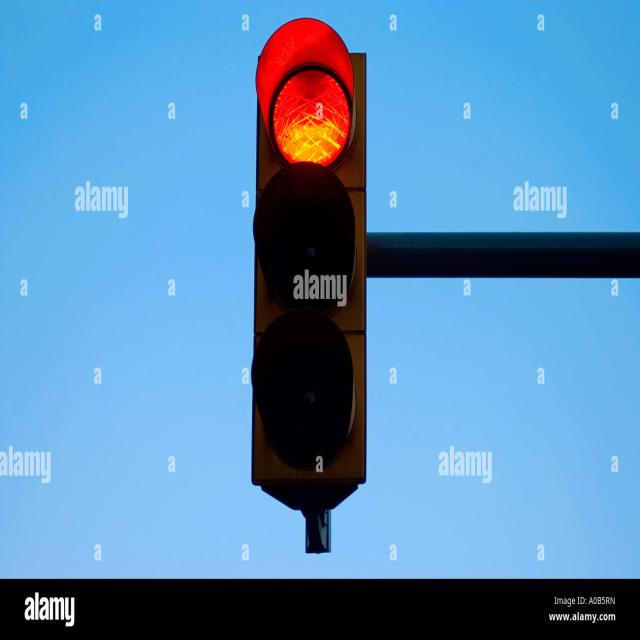red: (256, 42, 362, 180)
